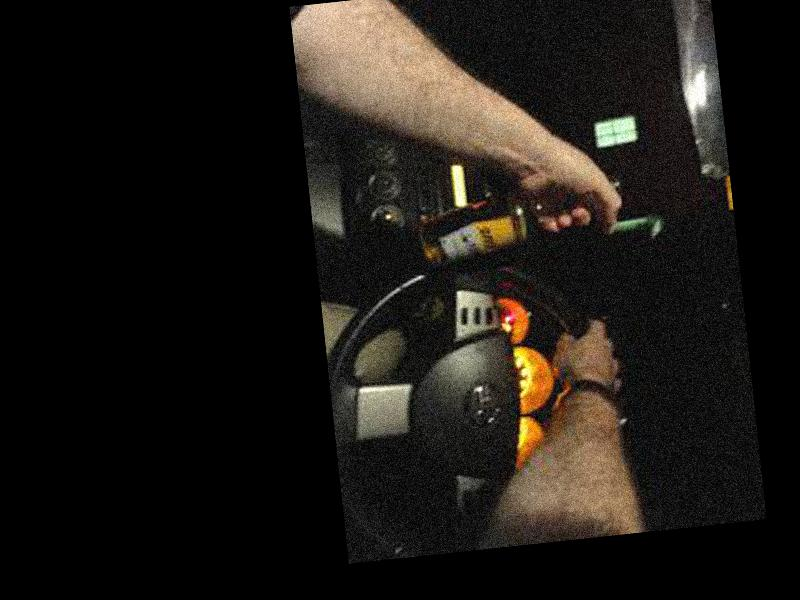Beer: (418, 173, 626, 274)
